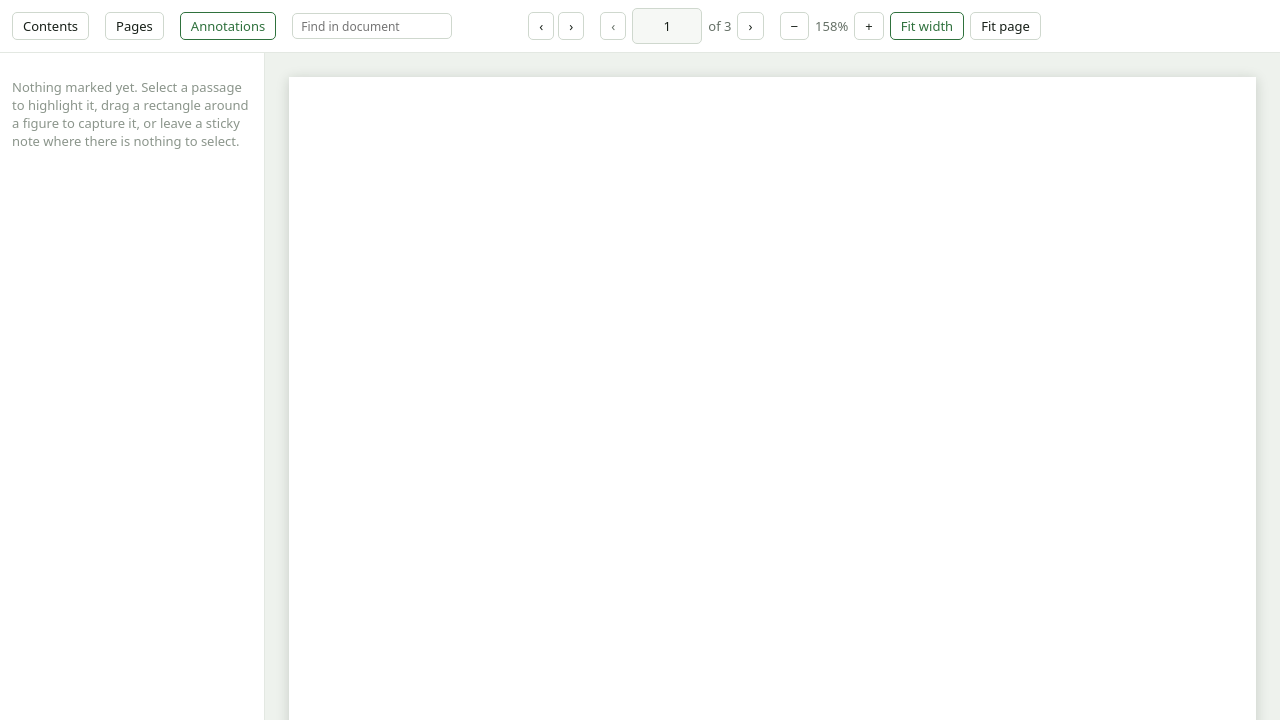
Test case: finding words in a document › moves to the page a match is on
The image size is (1280, 720).
Expected: the text "of 3" is shown, [708,17,732,35]
Type "ribosome" into the search field labelled "Find in document" at {"x": 372, "y": 26}, box [292,13,452,39]
Then press Enter
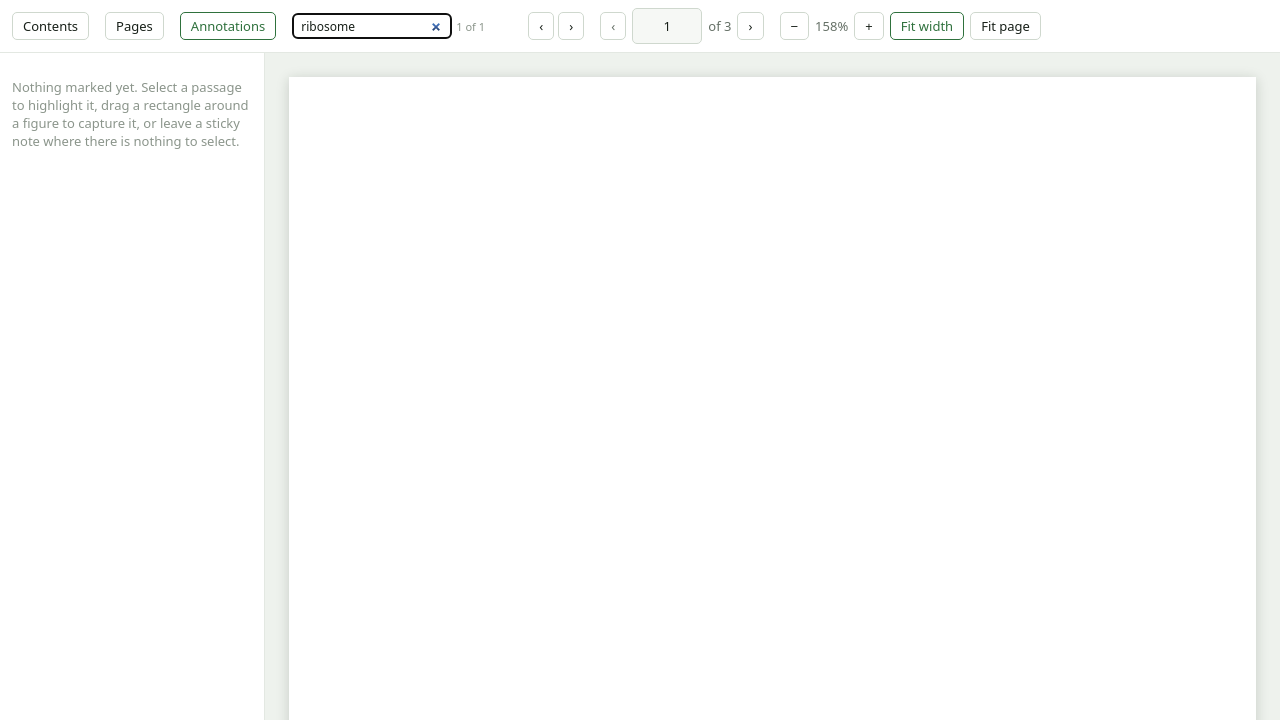
Expected: the text "1 of 1" is shown, [456,18,485,34]
Click the button named "Next match" at {"x": 571, "y": 26}, box [558,12,584,40]
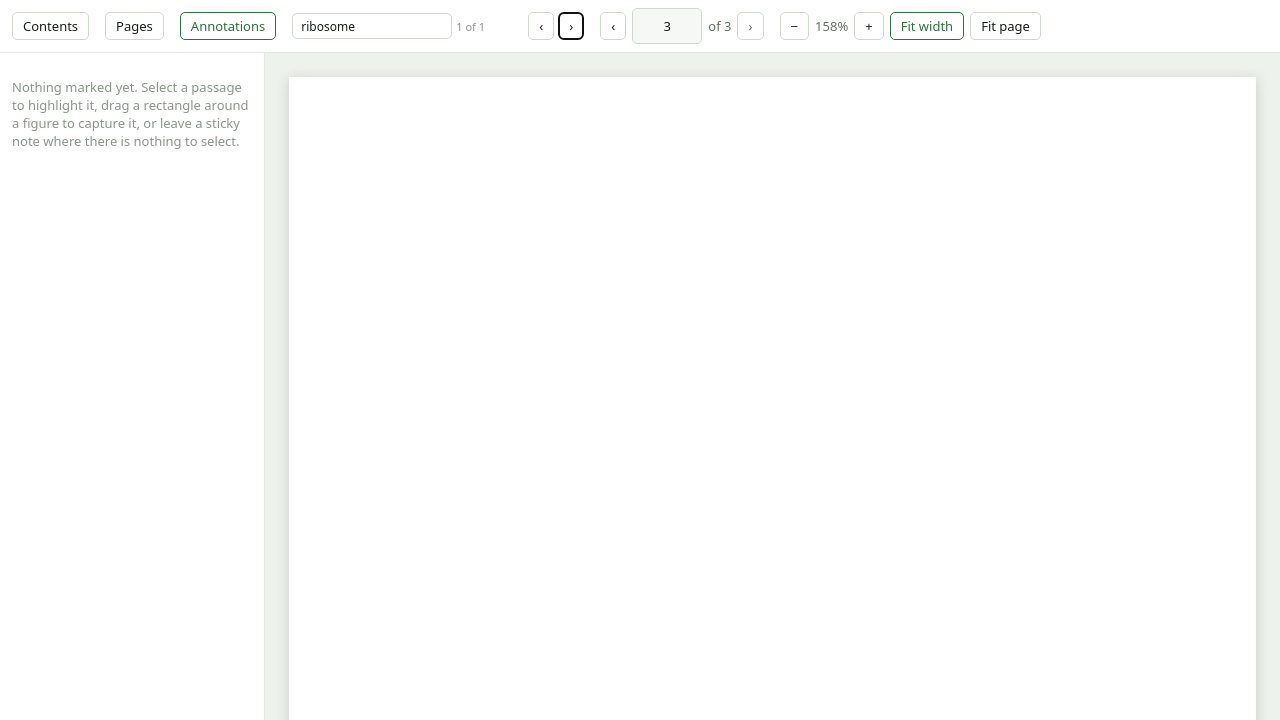
Expected: the field named "Page" holds "3", [632,8,702,44]
